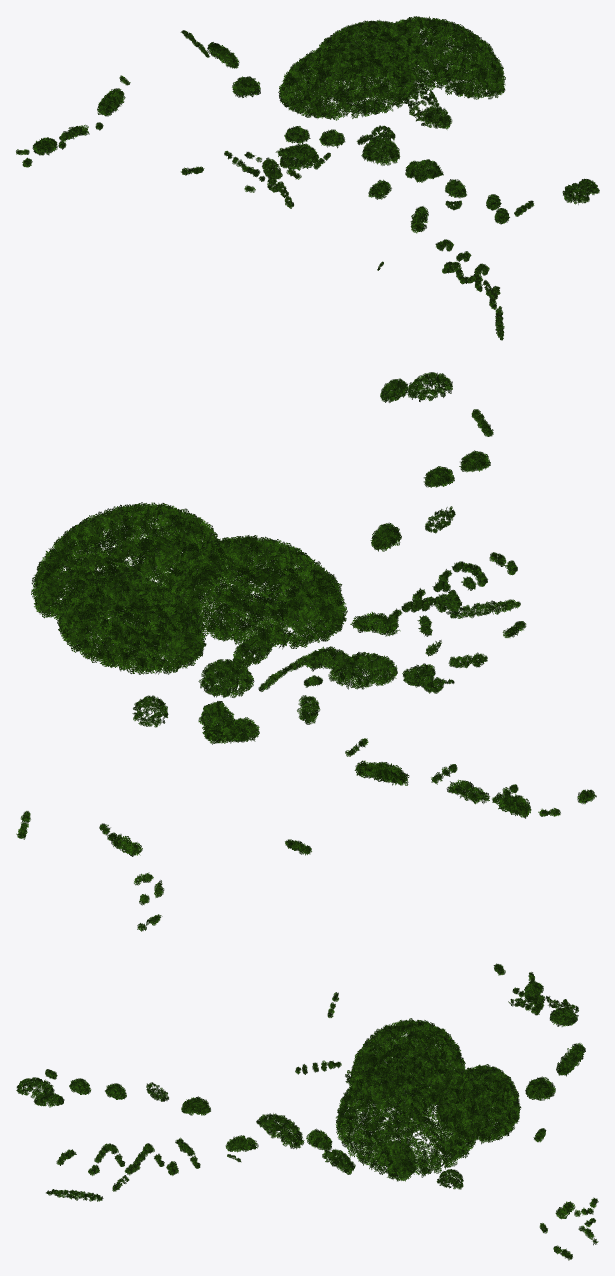
The model's file is yapraklar.fbx.
3 views of the same model, one above another, from view 1: azimuth 30°, elevation 25°; view 2: azimuth 150°, elevation 25°; view 3: azimuth 270°, elevation 25° (orthographic). The views are drawn at different scales.
Visible parts, largest first — view 1: Yapraklar.14010; view 2: Yapraklar.14010; view 3: Yapraklar.14010.
Boxes of the visible parts, box(x1,y1,x2,y2) form: Yapraklar.14010: box(16, 16, 599, 340); Yapraklar.14010: box(16, 372, 596, 931); Yapraklar.14010: box(16, 963, 598, 1260).
Size of the model in its own units: 6739 by 3186 by 7426.
